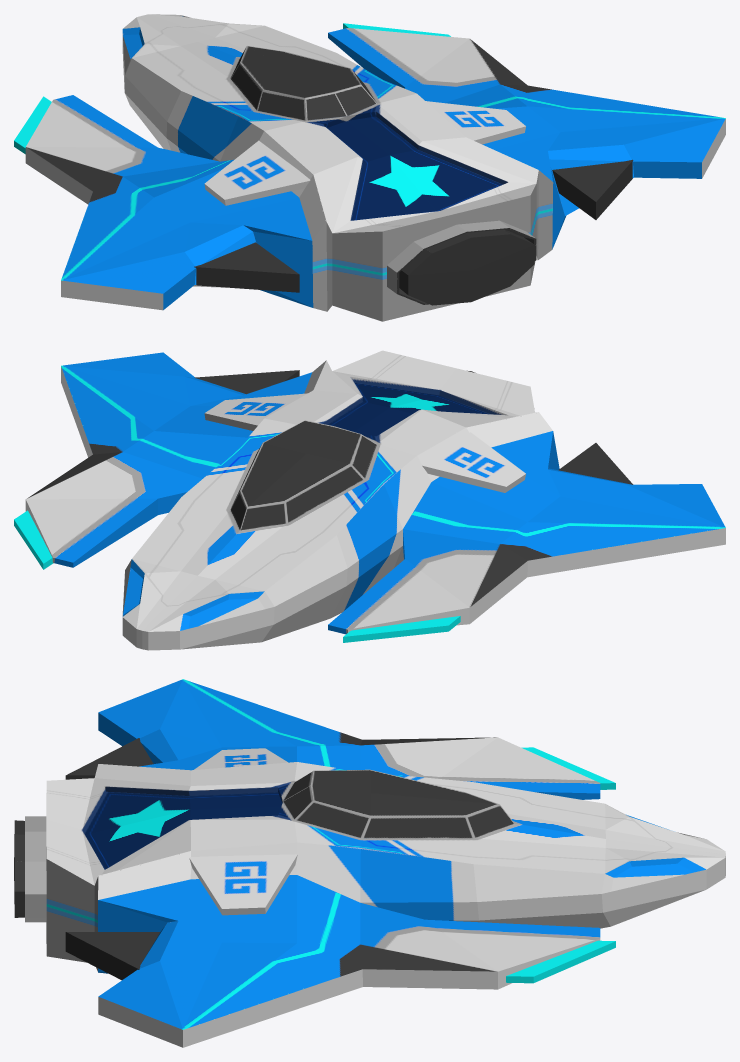
The model's file is GG_PlayerShip01.fbx.
3 renders of one model, top to bottom at view 1: azimuth 30°, elevation 25°; view 2: azimuth 150°, elevation 25°; view 3: azimuth 270°, elevation 25°, orthographic. The views are drawn at different scales.
Visible parts, largest first — view 1: polySurface12; view 2: polySurface12; view 3: polySurface12.
Part boxes in pixels (bbox=[...]): polySurface12: bbox=[14, 14, 725, 321]; polySurface12: bbox=[14, 350, 725, 650]; polySurface12: bbox=[14, 679, 725, 1047].
Bounding box in the file's own units: 10.98 × 2.19 × 9.41.
